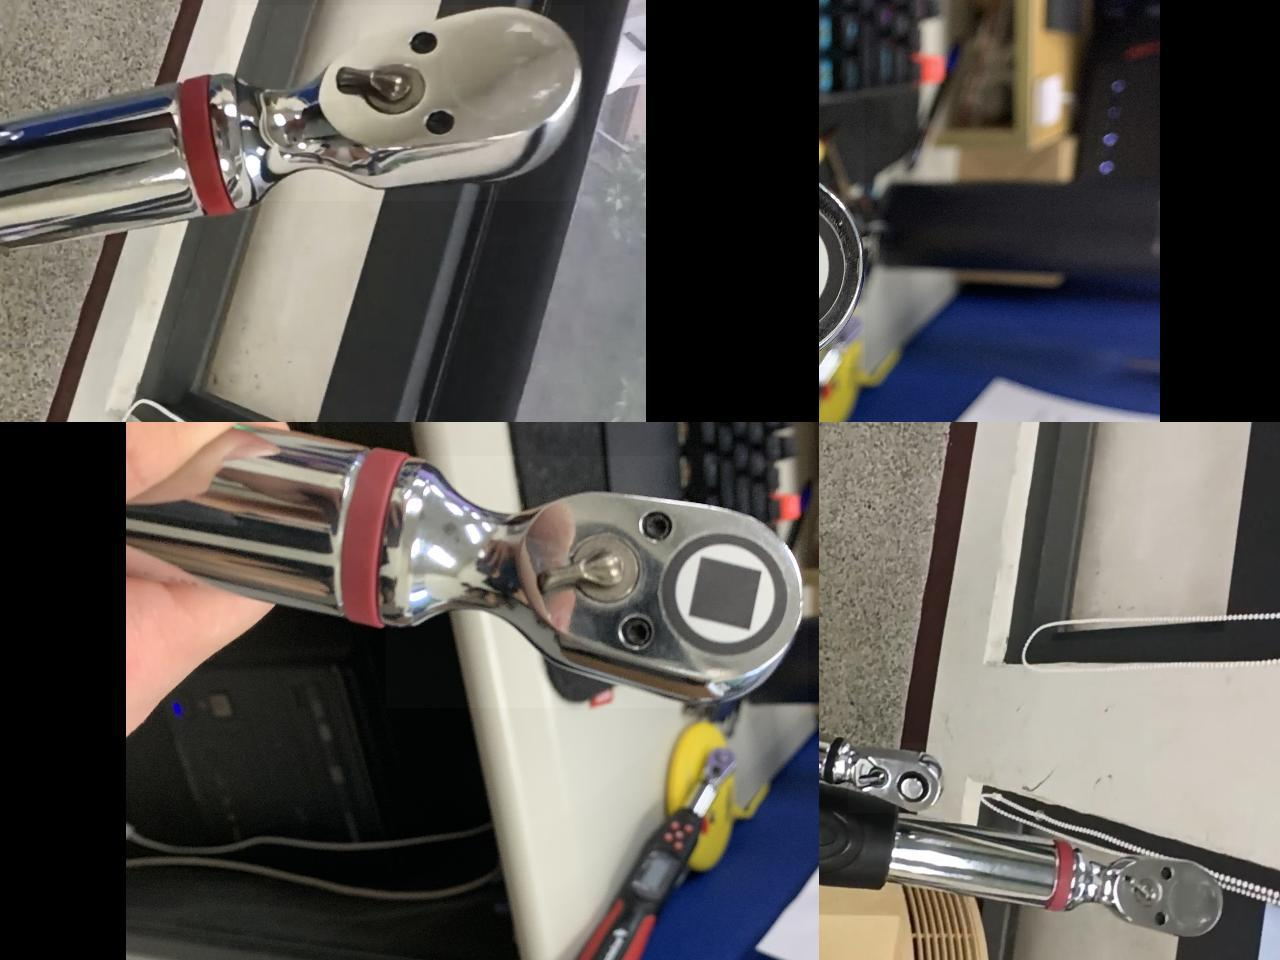Tool: (386, 455, 808, 707), (230, 4, 584, 200), (1076, 847, 1224, 941), (848, 742, 942, 812)
